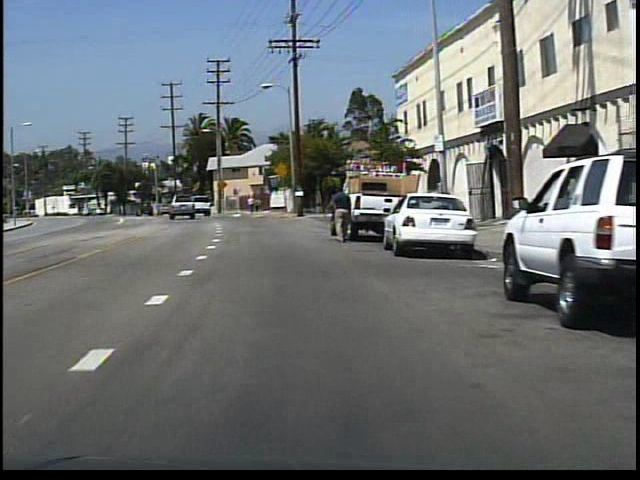person: (328, 185, 354, 246), (246, 195, 256, 217), (254, 196, 264, 215)
